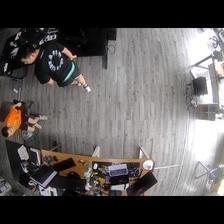normal: (21, 42, 93, 94), (1, 102, 45, 136)
